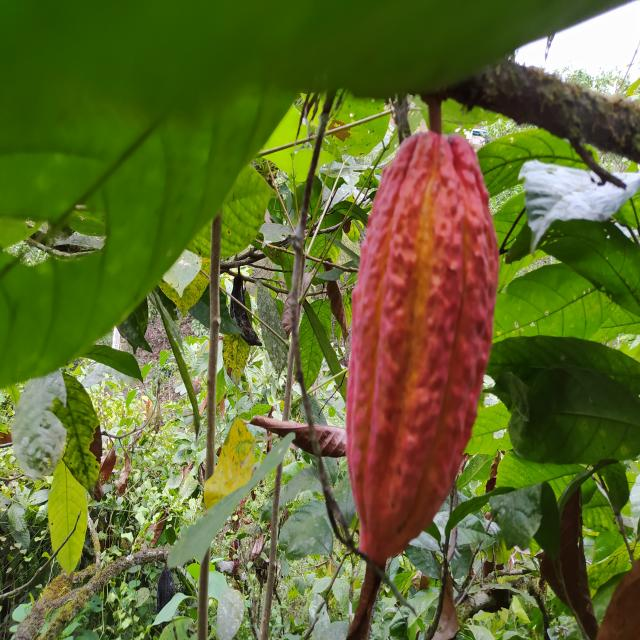Fitoftora: (228, 274, 264, 348), (158, 563, 175, 610)
Sana: (346, 129, 504, 563)
